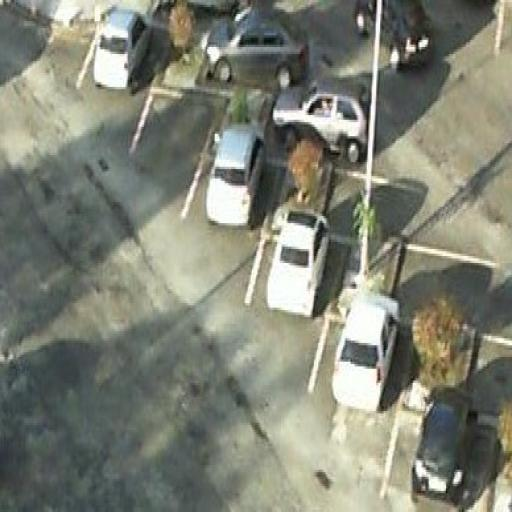car: (273, 78, 371, 172), (204, 7, 312, 89), (330, 294, 402, 416), (411, 385, 479, 507), (266, 210, 332, 315), (354, 0, 438, 80), (205, 122, 267, 230), (92, 9, 154, 94)
